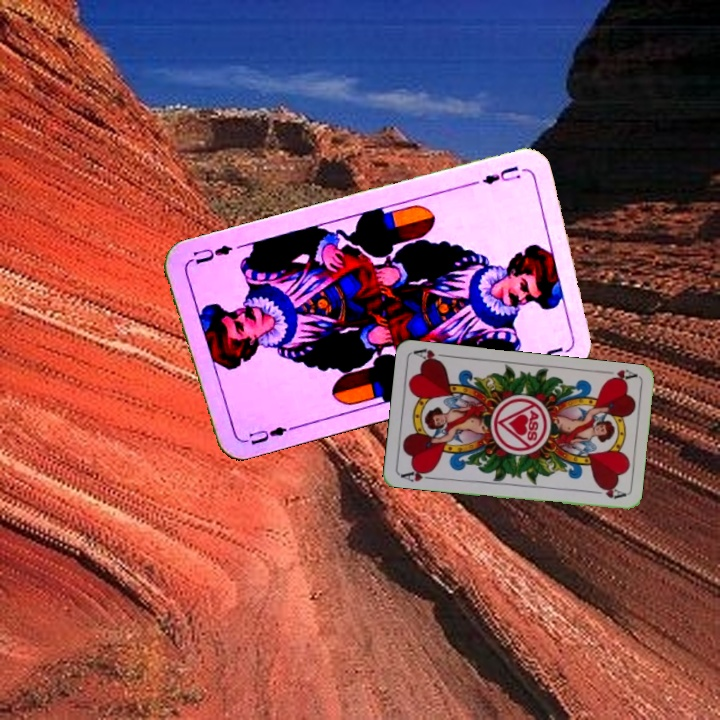EU: (236, 422, 295, 447), (478, 162, 525, 188)
HA: (598, 365, 639, 386), (397, 465, 438, 484)
